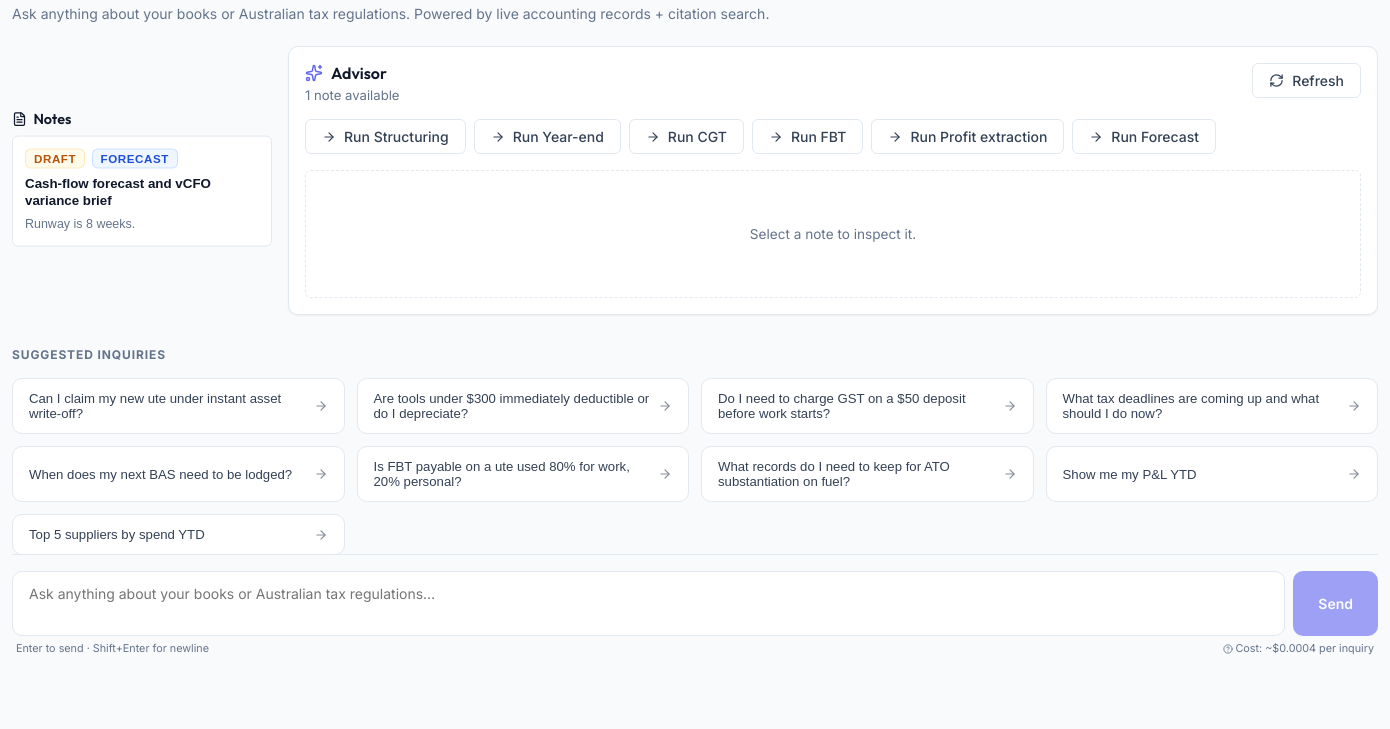
AskPage advisor surface › renders cited law panel when the ask-bot response includes citations
The width and height of the screenshot is (1390, 729).
Step 1. Type "Can I claim my ute?" into the text box with placeholder "Ask anything" → (649, 604), box [12, 571, 1285, 636]
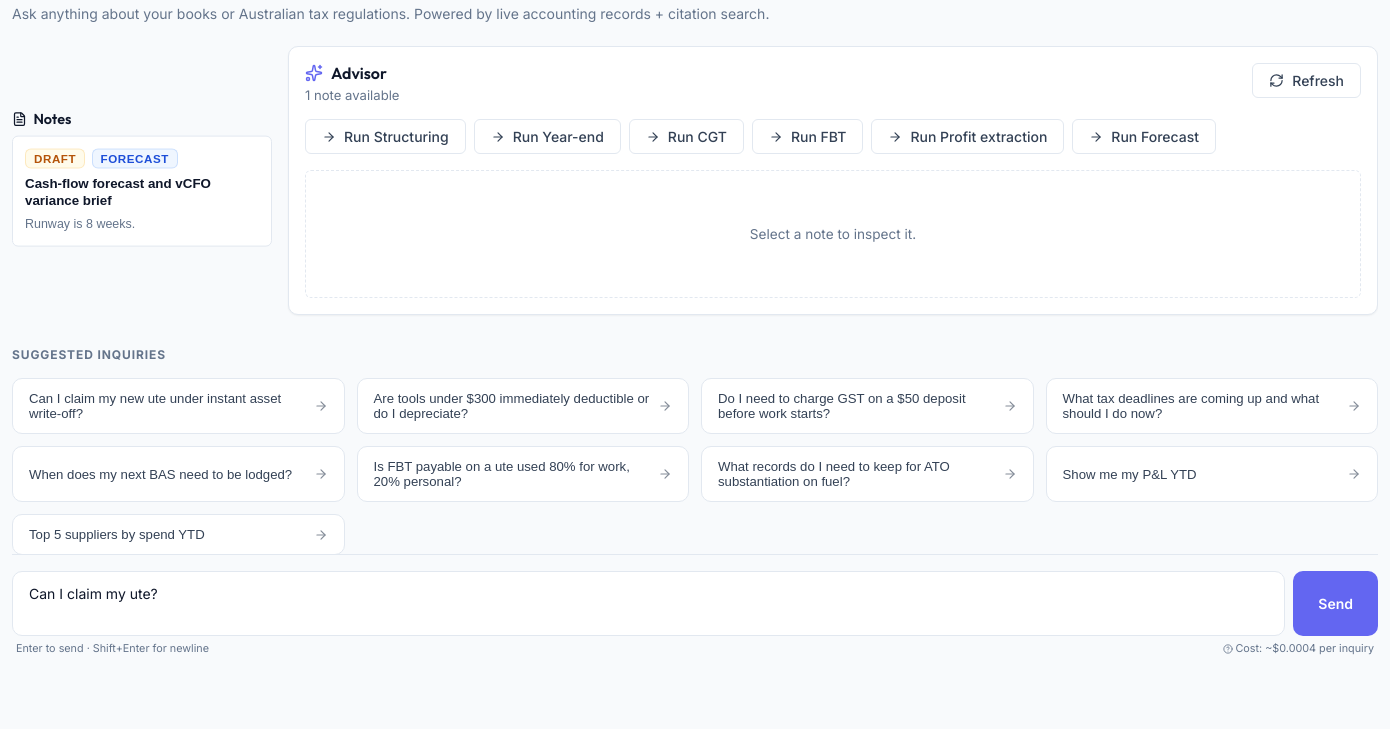
Step 2. Click the button "Send" → (1336, 604), box [1293, 571, 1378, 636]
(page scrolled)
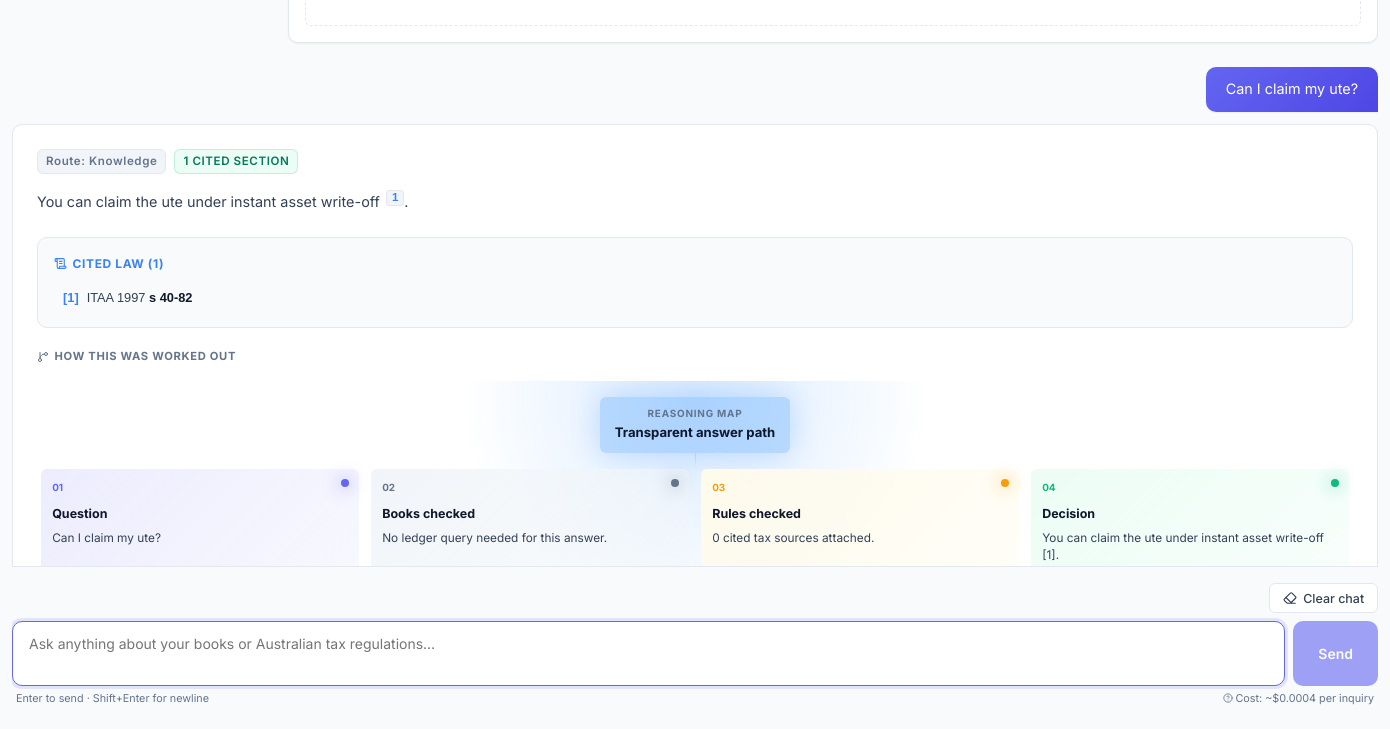
Expected: the text "Cited law (1)" is shown, [54, 256, 164, 271]
Expected: the text "ITAA 1997 s 40-82" is shown, [87, 290, 192, 305]
Expected: the text "s 40-82" is shown, [149, 290, 192, 305]
